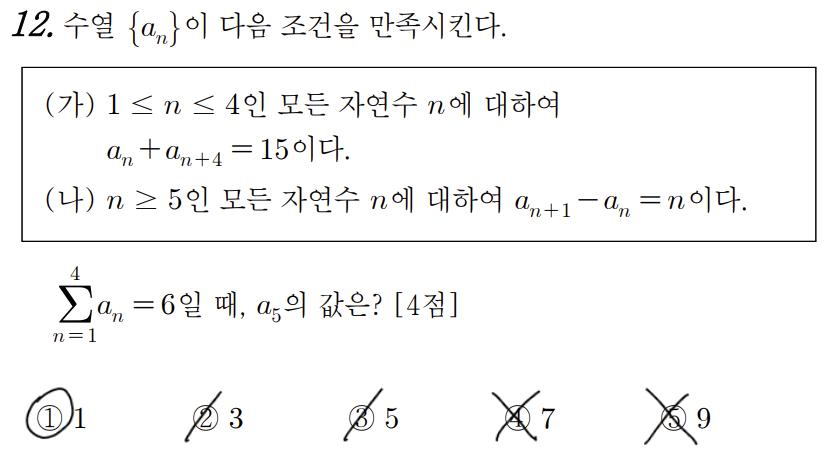1: (25, 386, 75, 443)
paper: (656, 403, 690, 433), (498, 404, 532, 434), (344, 403, 378, 433), (189, 403, 223, 433), (35, 402, 69, 432)
